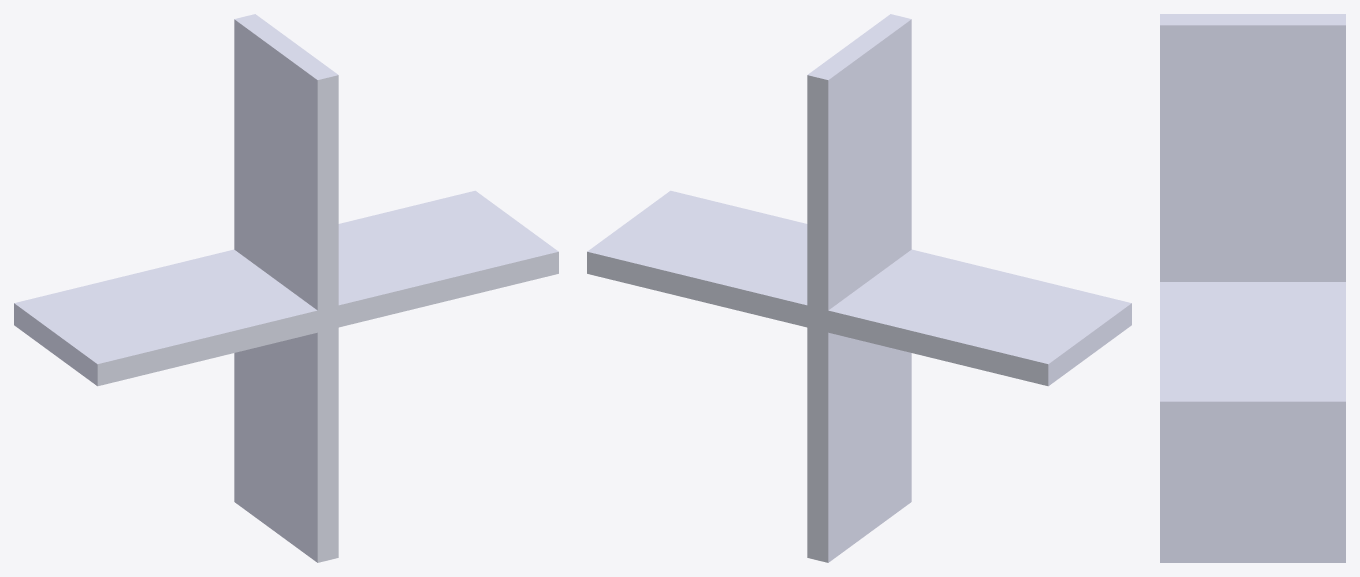
The picture shows the model from 3 angles, left to right: view 1: azimuth 30°, elevation 25°; view 2: azimuth 150°, elevation 25°; view 3: azimuth 270°, elevation 25°; orthographic projection. The views are drawn at different scales.
Visible parts, largest first — view 1: +_AlphaProta_Grey; view 2: +_AlphaProta_Grey; view 3: +_AlphaProta_Grey.
Part boxes in pixels (x1,y1,x2,y2): +_AlphaProta_Grey: [14, 14, 558, 562]; +_AlphaProta_Grey: [587, 14, 1131, 562]; +_AlphaProta_Grey: [1160, 14, 1345, 562].
Size of what is drawn, in the model's own units: 0.1436 by 0.1436 by 0.045.
Materials: 2 (2 with a texture image).
